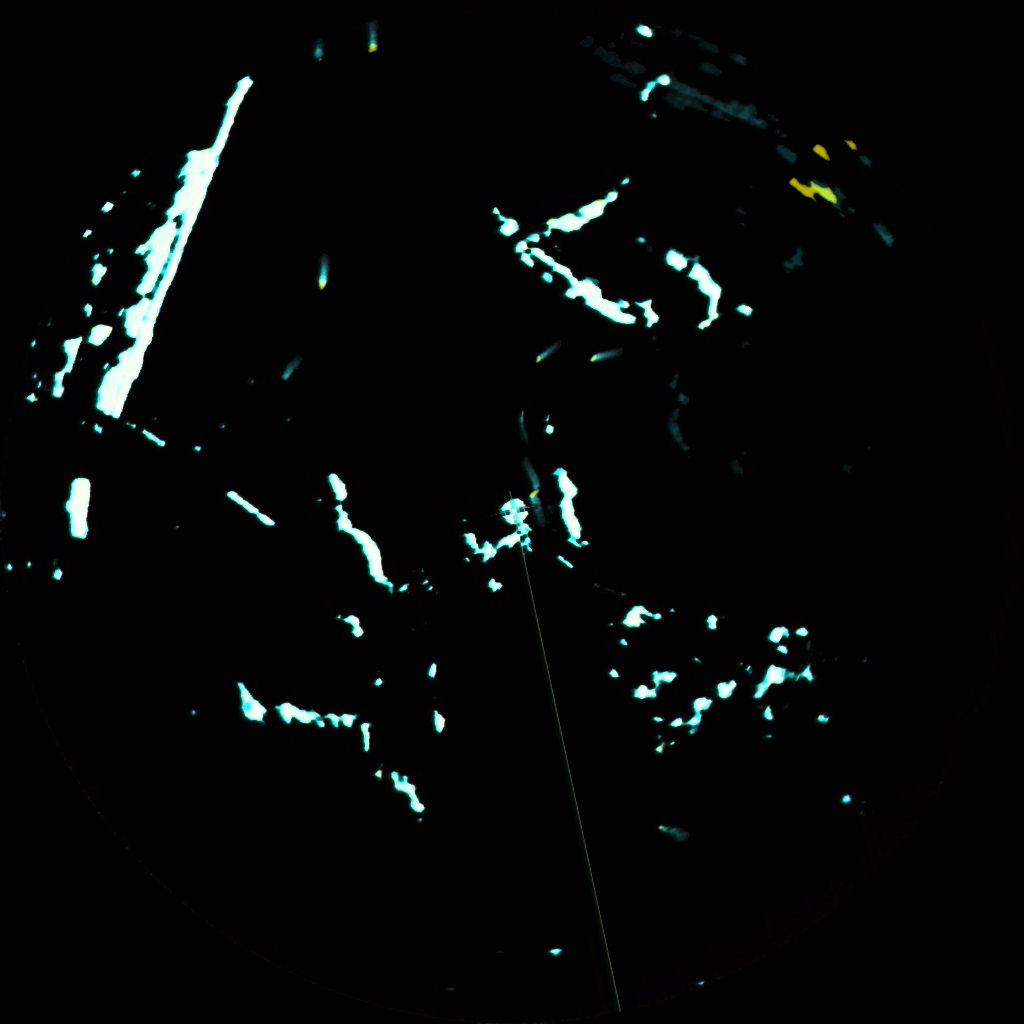B: (534, 344, 559, 364), (313, 263, 329, 293), (276, 362, 301, 381), (594, 345, 623, 360), (529, 498, 547, 522), (528, 473, 540, 491), (521, 409, 527, 438)
